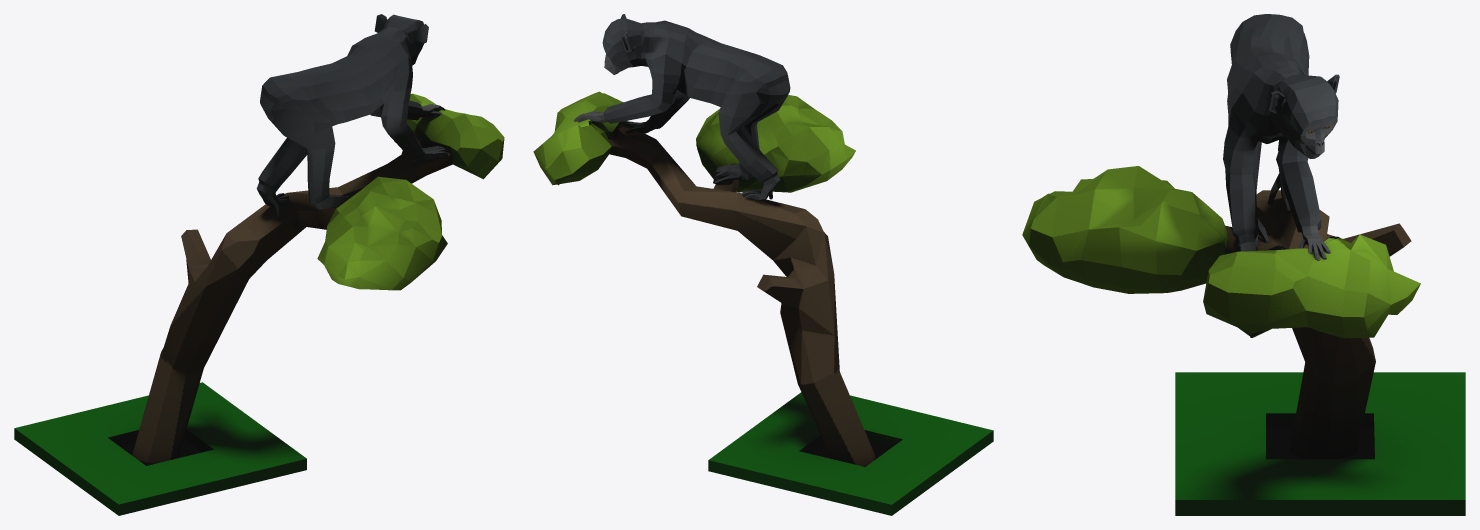
The model's file is proconsul.glb.
3 views of the same model, side by side, from view 1: azimuth 30°, elevation 25°; view 2: azimuth 150°, elevation 25°; view 3: azimuth 270°, elevation 25° (orthographic). The views are drawn at different scales.
Parts seen in each view (by area): view 1: Proconsul; view 2: Proconsul; view 3: Proconsul.
Part boxes in pixels (box(x1,y1,x2,y2)): Proconsul: box(14, 14, 504, 515); Proconsul: box(533, 14, 993, 515); Proconsul: box(1022, 14, 1465, 515).
Bounding box in the file's own units: 1.88 × 1.72 × 1.27.
1 material, 1 textured.
